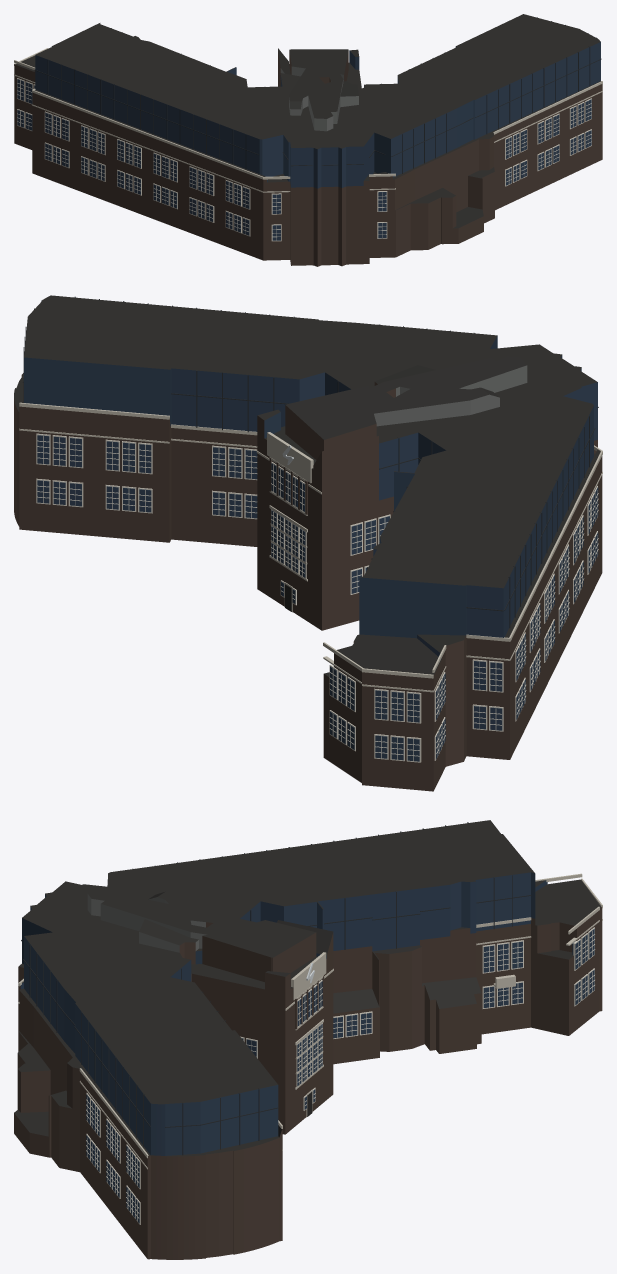
Rendered from generator-mauritskade.glb.
3 views of the same model, one above another, from view 1: azimuth 30°, elevation 25°; view 2: azimuth 150°, elevation 25°; view 3: azimuth 270°, elevation 25° (orthographic). The views are drawn at different scales.
Visible parts, largest first — view 1: generator-mauritskade; view 2: generator-mauritskade; view 3: generator-mauritskade.
Boxes of the visible parts, x1,y1,x2,y2 form: generator-mauritskade: (14, 14, 602, 266); generator-mauritskade: (14, 295, 602, 791); generator-mauritskade: (14, 820, 602, 1259).
Bounding box in the file's own units: 67.56 × 18.94 × 58.61.
